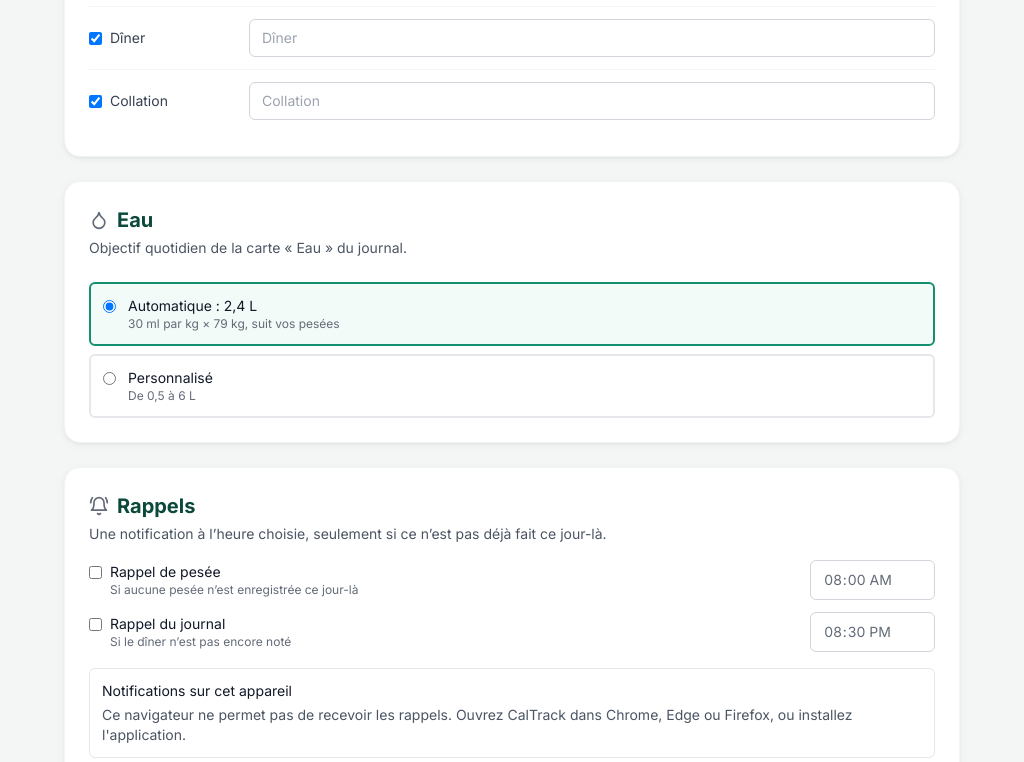
Test: SettingsPage › objectif d’eau › refuse un objectif hors limites
(page scrolled)
Click the radio button labelled "Personnalisé De 0,5 à 6 L". click: (110, 378)
box: [103,372,116,385]
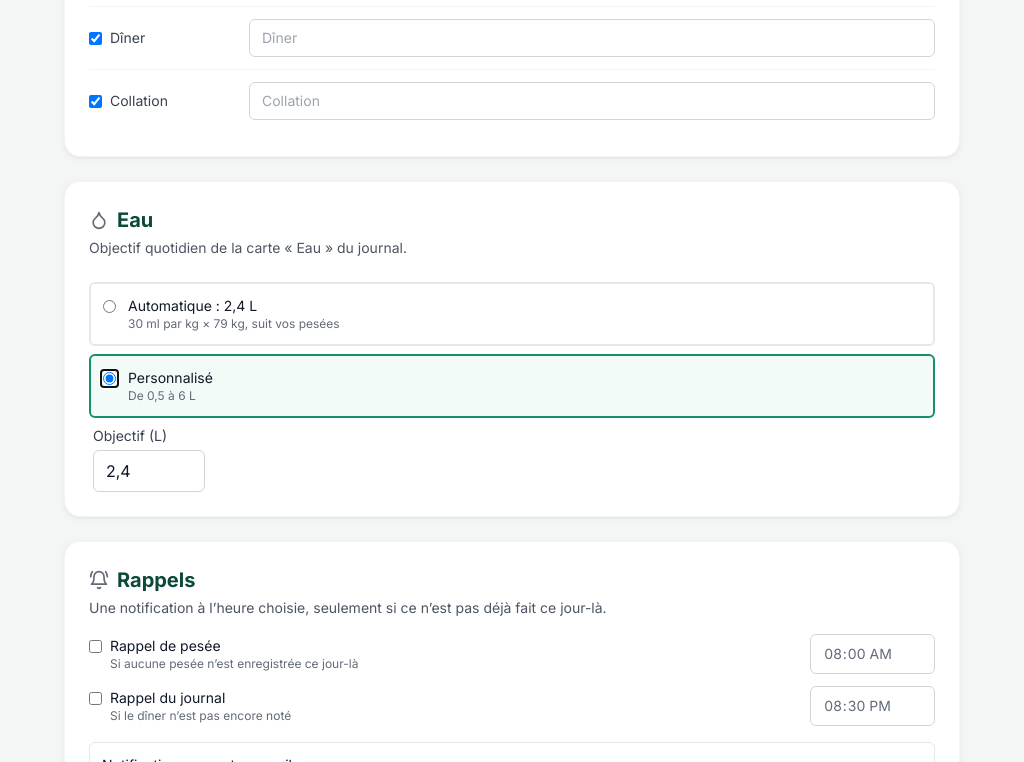
Replace the text in the field labelled "Objectif (L)" with "0,3". click: (149, 471)
box: [93,450,205,492]
(page scrolled)
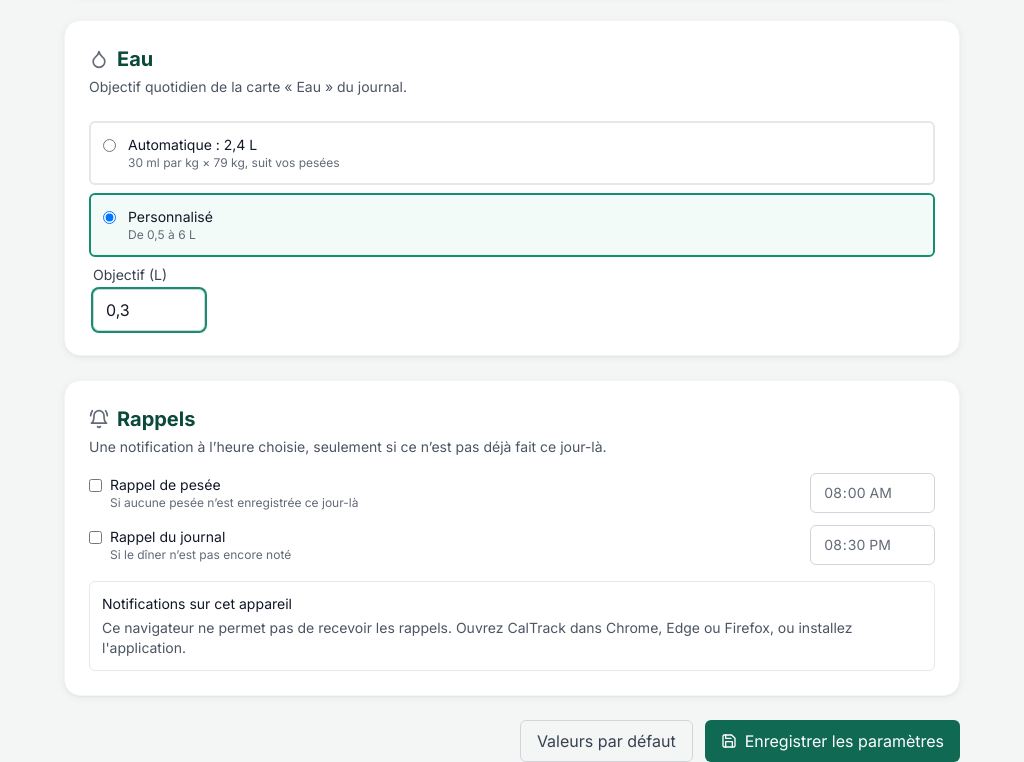
Click the button "Enregistrer les paramètres". click: (832, 741)
box: [705,720,960,761]
(page scrolled)
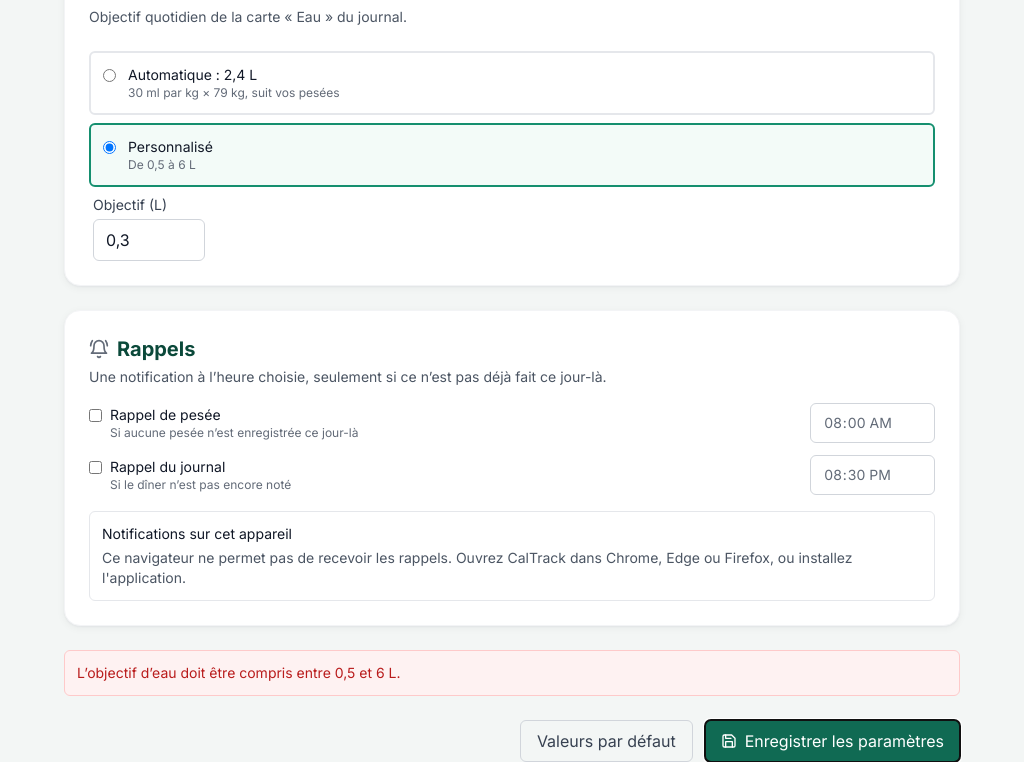
Now the text "L’objectif d’eau doit être compris entre 0,5 et 6 L." is shown, box [64,650,960,696]
